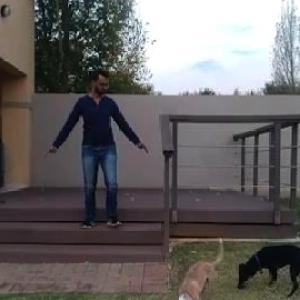land: (52, 71, 144, 241)
